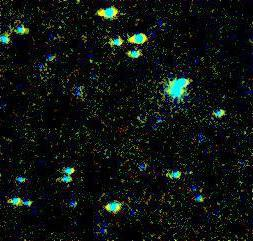star: (163, 73, 193, 103)
